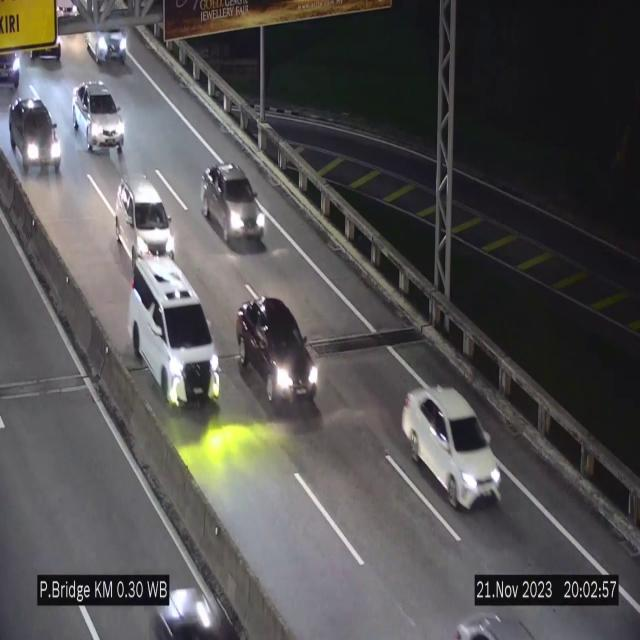Car: (128, 252, 222, 411), (402, 386, 502, 507), (237, 292, 324, 413), (200, 164, 266, 249), (116, 174, 174, 256), (73, 80, 125, 163), (10, 100, 65, 173)
